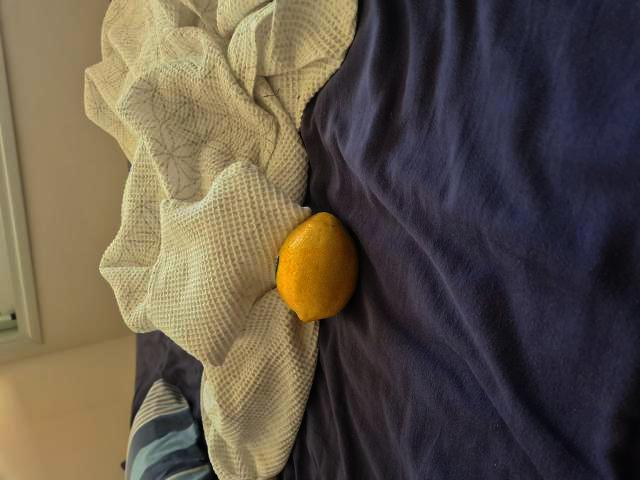lemon: (277, 209, 360, 319)
